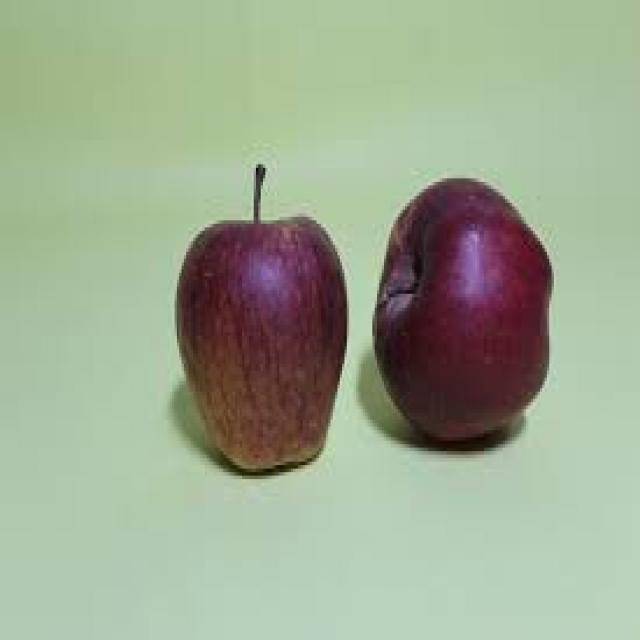Rotten: (363, 202, 562, 442), (180, 197, 338, 475)
